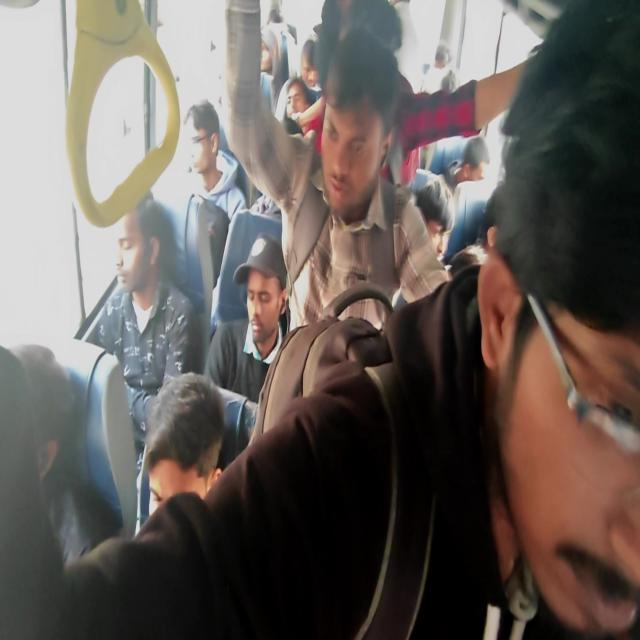person: (511, 130, 640, 613), (15, 325, 77, 479), (151, 402, 222, 524), (332, 75, 392, 214), (246, 254, 294, 362), (115, 202, 162, 289), (360, 8, 410, 89), (421, 193, 459, 262), (288, 83, 322, 154), (462, 140, 496, 202), (299, 42, 331, 82), (256, 34, 281, 80), (431, 41, 454, 79)
